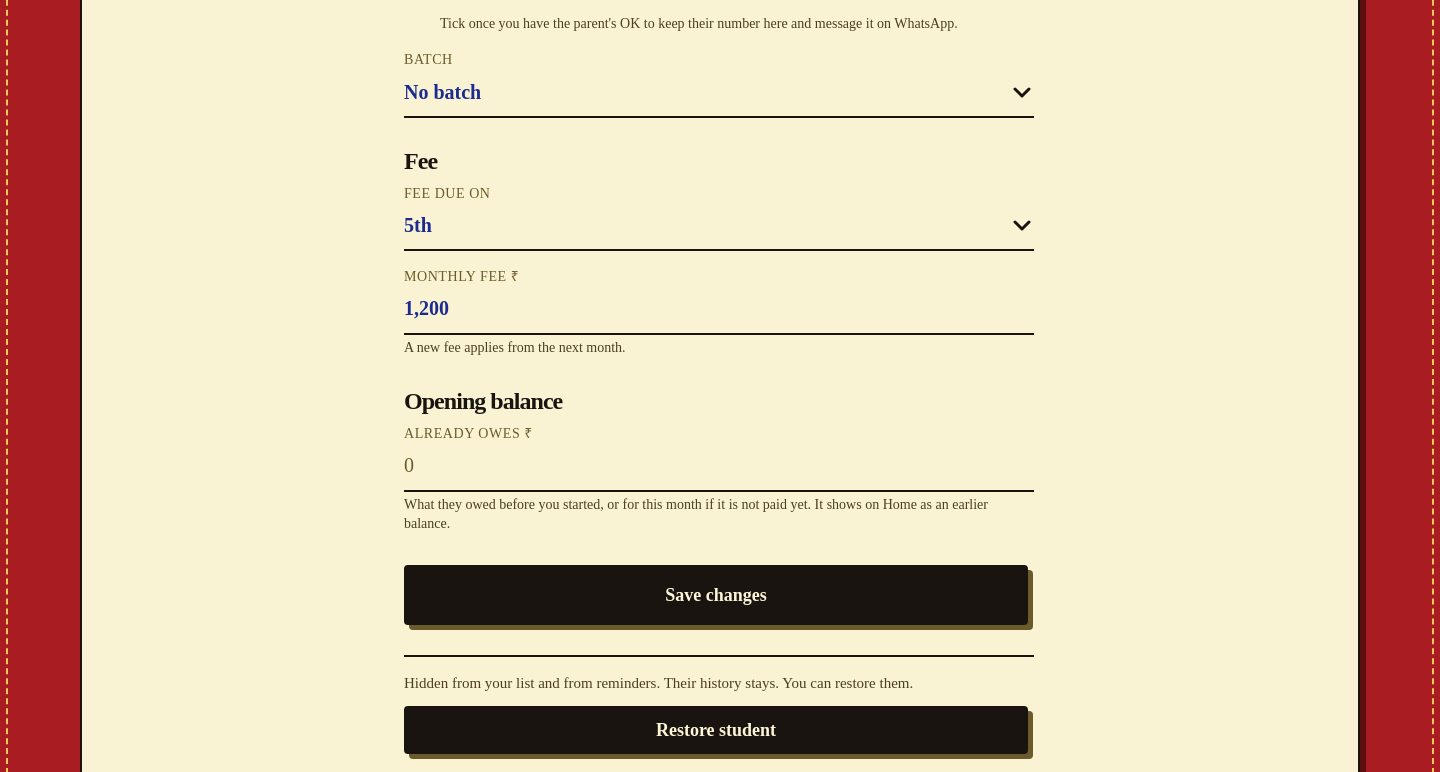
Scenario: archive and restore › says nothing was saved when restoring fails, and stays
The width and height of the screenshot is (1440, 772).
(page scrolled)
Click the button "Restore student" at (716, 730), box [404, 706, 1028, 754]
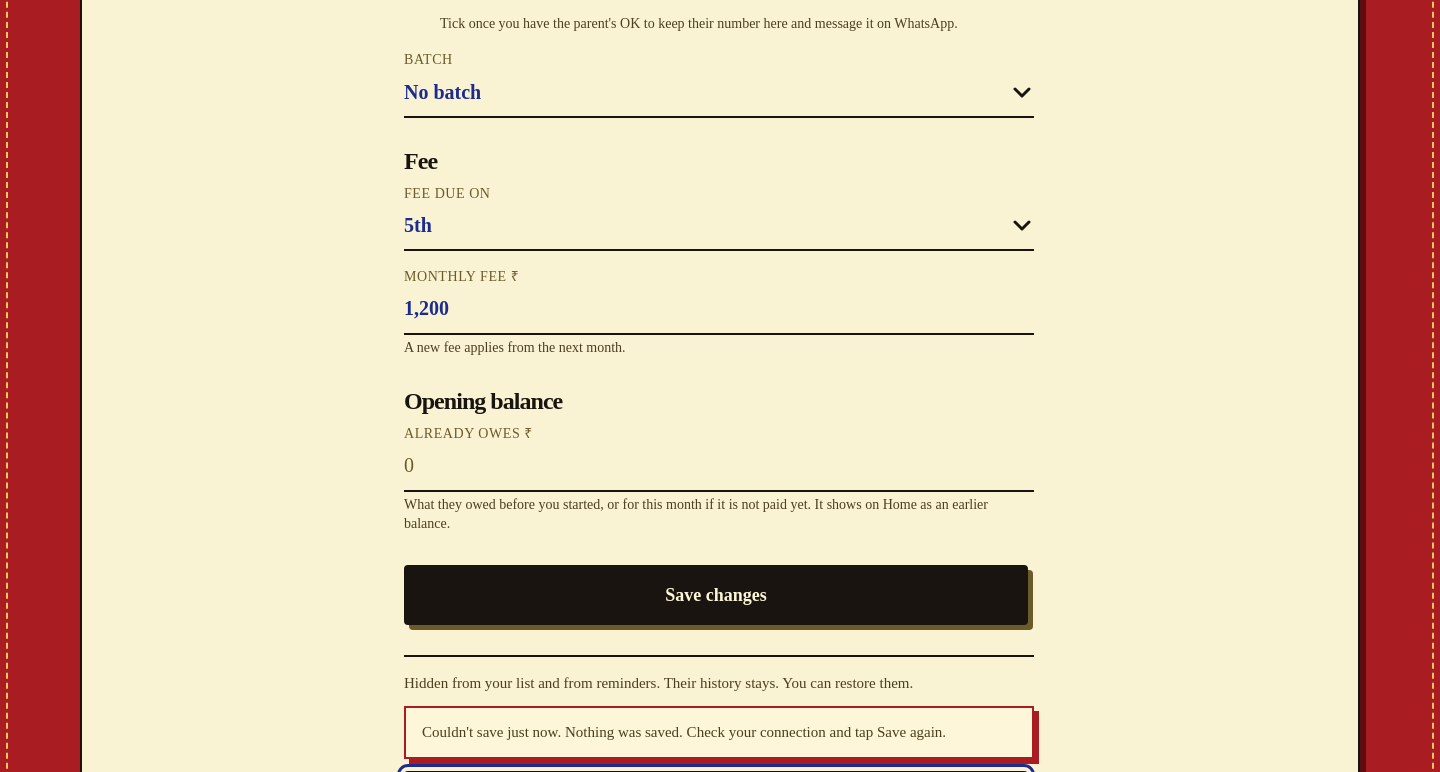
Expected: the text "Nothing was saved" is shown, [422, 724, 946, 740]
